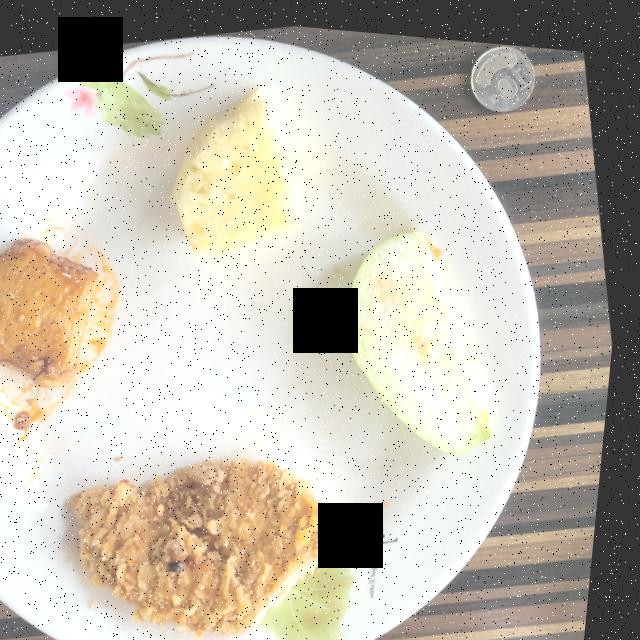coin: (471, 36, 536, 102)
creamy tofu: (0, 237, 104, 385)
fried chicken cutlet: (81, 452, 347, 631)
guava -sliced-: (352, 223, 499, 444)
pineapple: (175, 82, 306, 256)
